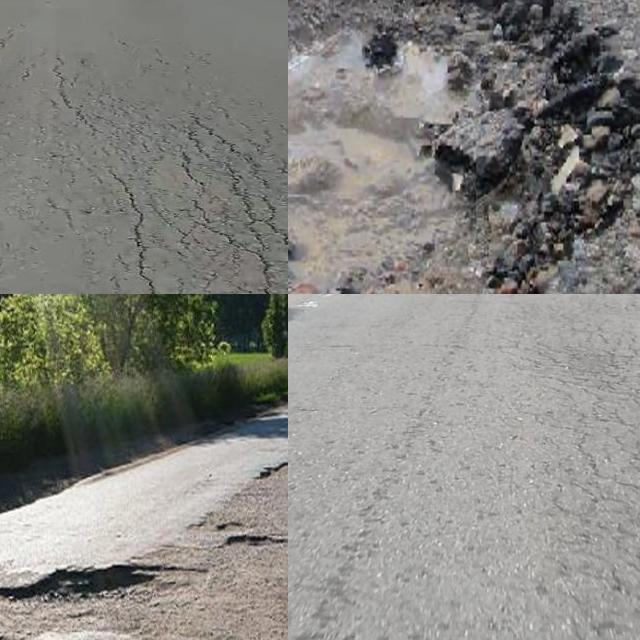Lubang: (288, 0, 640, 294), (0, 566, 175, 626)
Retak Buaya: (127, 123, 288, 294)
